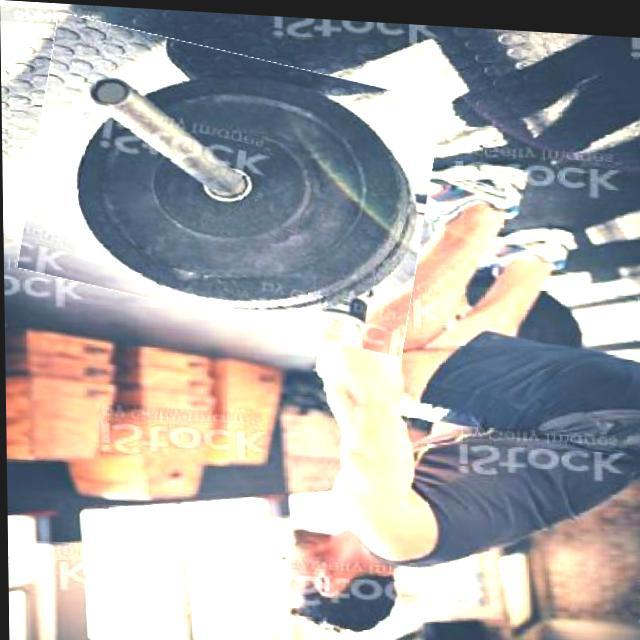barbell: (25, 26, 436, 339)
